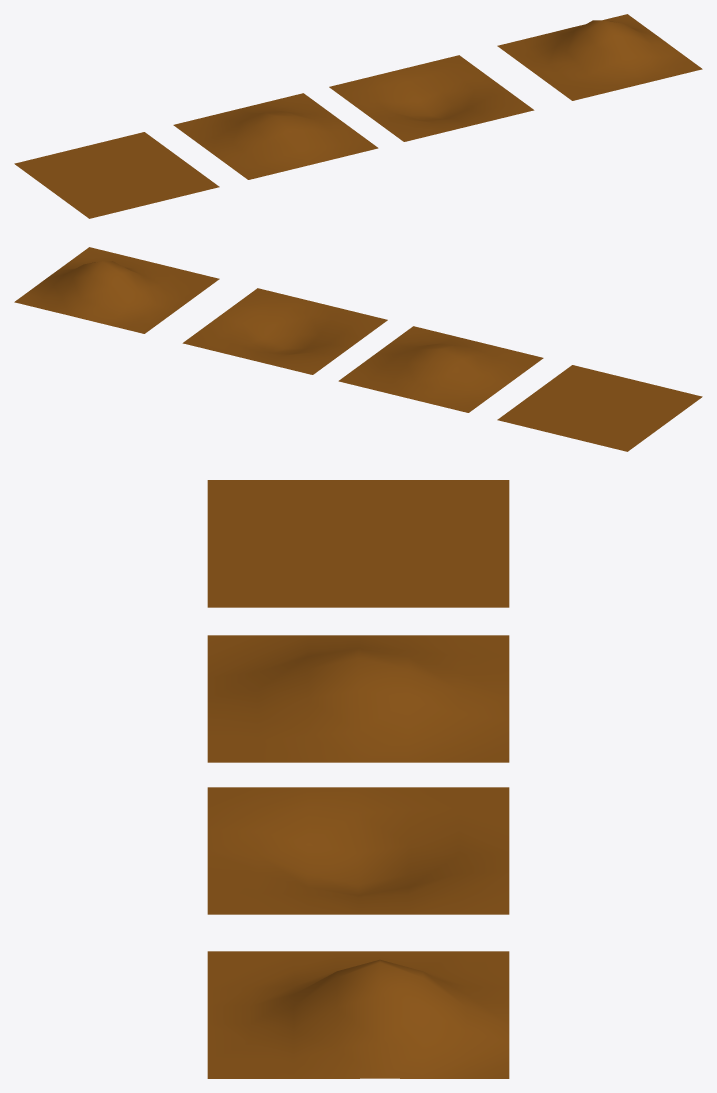
Rendered from Boloto_ground.fbx.
The picture shows the model from 3 angles, top to bottom: view 1: azimuth 30°, elevation 25°; view 2: azimuth 150°, elevation 25°; view 3: azimuth 270°, elevation 25°; orthographic projection. The views are drawn at different scales.
Parts seen in each view (by area): view 1: SM_DL_GROUND_4_Boloto, SM_DL_GROUND_1_Boloto, SM_DL_GDOUND_3_Boloto, SM_DL_GROUND_2_boloto; view 2: SM_DL_GROUND_1_Boloto, SM_DL_GROUND_4_Boloto, SM_DL_GDOUND_3_Boloto, SM_DL_GROUND_2_boloto; view 3: SM_DL_GROUND_1_Boloto, SM_DL_GROUND_2_boloto, SM_DL_GDOUND_3_Boloto, SM_DL_GROUND_4_Boloto.
Part boxes in pixels (bbox=[...]): SM_DL_GROUND_4_Boloto: bbox=[497, 14, 702, 100]; SM_DL_GROUND_1_Boloto: bbox=[14, 132, 219, 218]; SM_DL_GDOUND_3_Boloto: bbox=[329, 55, 534, 141]; SM_DL_GROUND_2_boloto: bbox=[173, 93, 378, 179]; SM_DL_GROUND_1_Boloto: bbox=[497, 365, 702, 451]; SM_DL_GROUND_4_Boloto: bbox=[14, 247, 219, 333]; SM_DL_GDOUND_3_Boloto: bbox=[182, 288, 387, 374]; SM_DL_GROUND_2_boloto: bbox=[338, 326, 543, 412]; SM_DL_GROUND_1_Boloto: bbox=[207, 480, 509, 607]; SM_DL_GROUND_2_boloto: bbox=[207, 635, 509, 762]; SM_DL_GDOUND_3_Boloto: bbox=[207, 787, 509, 914]; SM_DL_GROUND_4_Boloto: bbox=[207, 951, 509, 1078].
Size of the model in its own units: 18.79 by 1.39 by 4.
